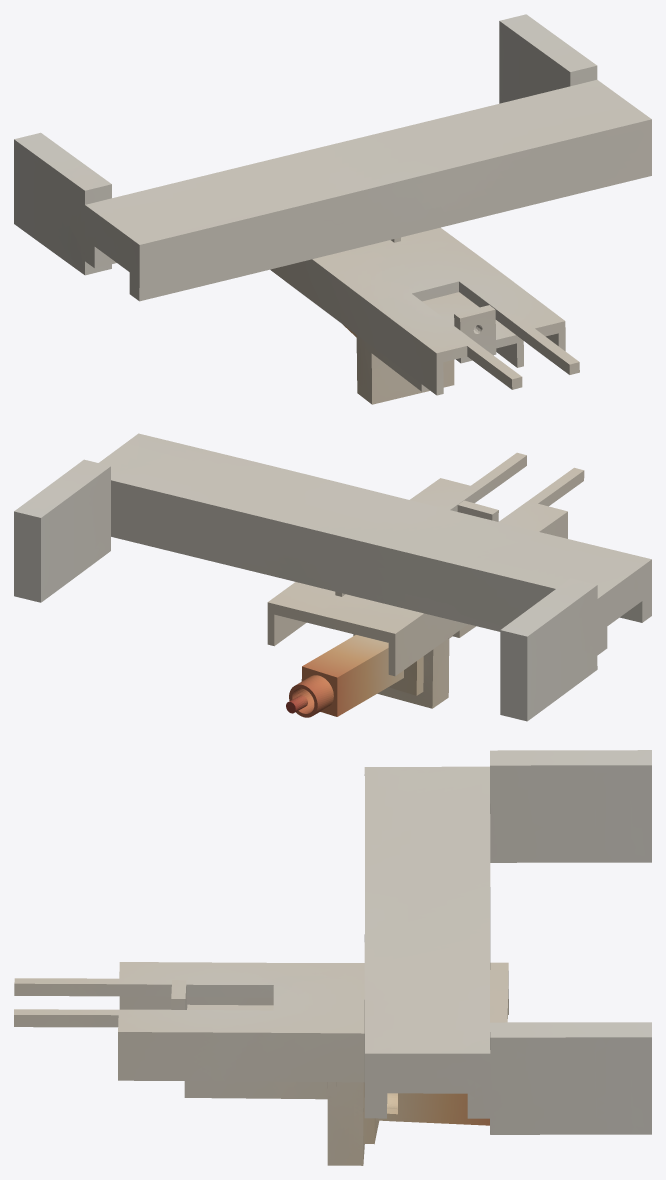
Rendered from gantry_h6_c12_Fx_u.glb.
The picture shows the model from 3 angles, top to bottom: view 1: azimuth 30°, elevation 25°; view 2: azimuth 150°, elevation 25°; view 3: azimuth 270°, elevation 25°; orthographic projection. The views are drawn at different scales.
Visible parts, largest first — view 1: geometry_0; view 2: geometry_0; view 3: geometry_0.
Boxes of the visible parts, bbox=[...] form: geometry_0: bbox=[14, 14, 651, 404]; geometry_0: bbox=[14, 433, 651, 721]; geometry_0: bbox=[14, 750, 651, 1165].
Bounding box in the file's own units: 761 × 307 × 713.
